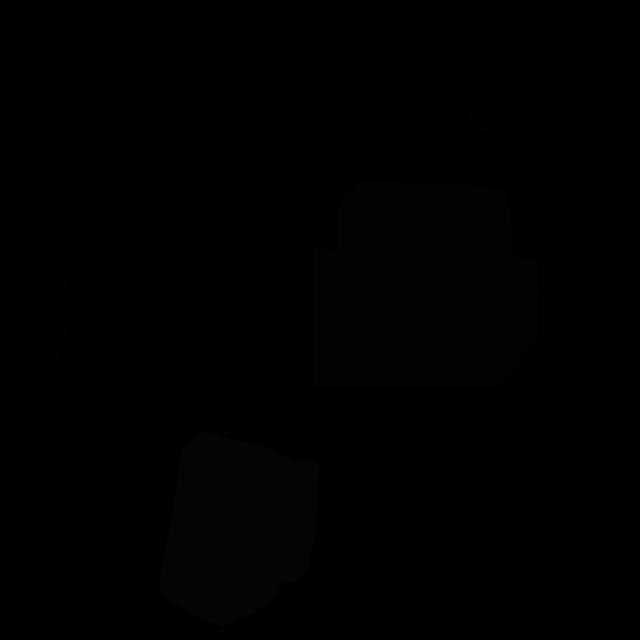cardboard: (313, 180, 540, 387)
rigid_plastic: (0, 239, 72, 428), (451, 7, 516, 136)
soft_plastic: (160, 430, 320, 627)
